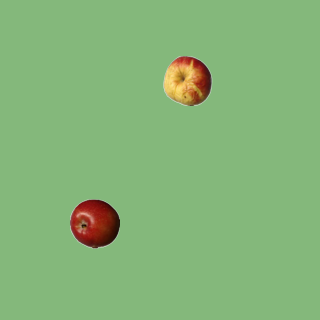Apple Braeburn: (69, 198, 119, 248)
Apple Red Yellow 1: (162, 55, 212, 105)
